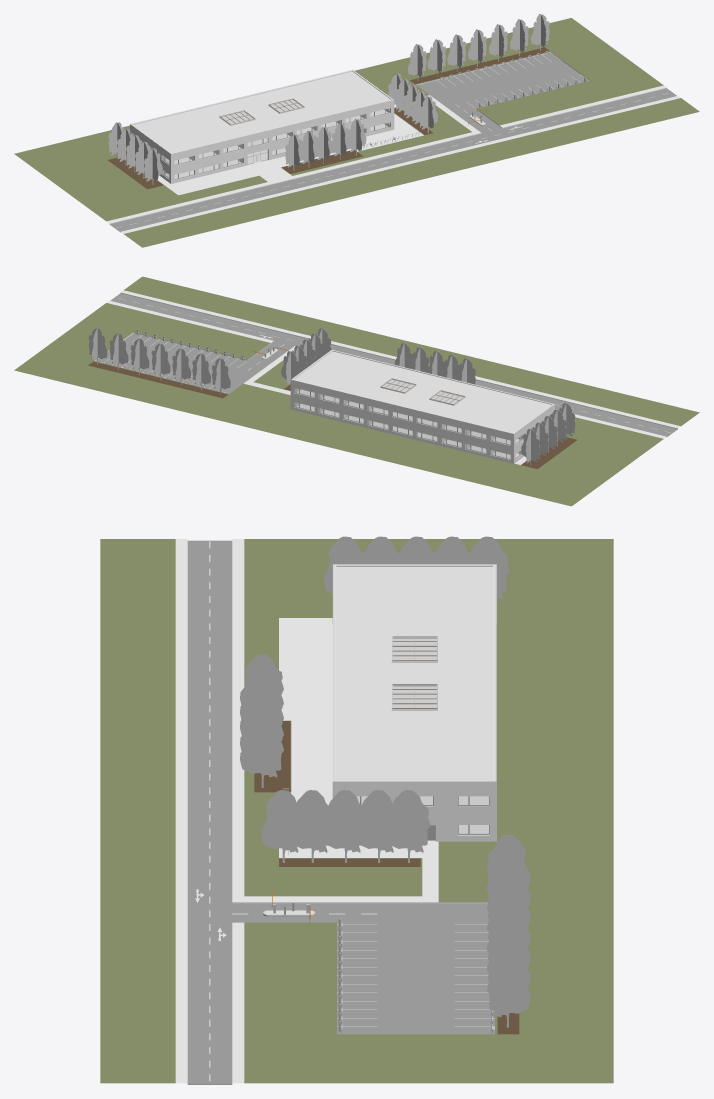
3 views of the same model, one above another, from view 1: azimuth 30°, elevation 25°; view 2: azimuth 150°, elevation 25°; view 3: azimuth 270°, elevation 25° (orthographic). The views are drawn at different scales.
Visible parts, largest first — view 1: 3A8hY1UoD7JhnLeZeDyU4B, 3A8hY1UoD7JhnLeZeDyU2J, 0CWDnGbzX4Sf1BesL9Tj4o, 3A8hY1UoD7JhnLeZeDyUs3, 12bPoIwbv0tBGfPfnvCUc2, 3A8hY1UoD7JhnLeZeDyQc9, 3A8hY1UoD7JhnLeZeDyU2I, 0P898JVsX6VQGfAj0lC8$w, 3LJODRGPbDdfXHXShFLAxF, 3LJODRGPbDdfXHXShFLAnr, 12bPoIwbv0tBGfPfnvCUau, 0P898JVsX6VQGfAj0lC8w9 (+14 smaller); view 2: 3A8hY1UoD7JhnLeZeDyU4B, 0CWDnGbzX4Sf1BesL9Tj4o, 3A8hY1UoD7JhnLeZeDyU2J, 12bPoIwbv0tBGfPfnvCUYu, 3A8hY1UoD7JhnLeZeDyUs3, 3A8hY1UoD7JhnLeZeDyU2I, 0P898JVsX6VQGfAj0lC8$w, 3LJODRGPbDdfXHXShFLAnr, 3LJODRGPbDdfXHXShFLAxF, 3A8hY1UoD7JhnLeZeDyQc9, 12bPoIwbv0tBGfPfnvCUau, 3A8hY1UoD7JhnLeZeDyQto (+9 smaller); view 3: 3A8hY1UoD7JhnLeZeDyU4B, 3A8hY1UoD7JhnLeZeDyU2J, 0CWDnGbzX4Sf1BesL9Tj4o, 3A8hY1UoD7JhnLeZeDyUs3, 12bPoIwbv0tBGfPfnvCUW2, 3A8hY1UoD7JhnLeZeDyQc9, 0P898JVsX6VQGfAj0lC8w9, 3A8hY1UoD7JhnLeZeDyQqa, 3A8hY1UoD7JhnLeZeDyQpf, 3A8hY1UoD7JhnLeZeDyQqC, 3A8hY1UoD7JhnLeZeDyQqq, 3A8hY1UoD7JhnLeZeDyQq4 (+10 smaller).
Boxes of the visible parts, x1,y1,x2,y2 form: 3A8hY1UoD7JhnLeZeDyU4B: (14, 18, 699, 247); 3A8hY1UoD7JhnLeZeDyU2J: (109, 52, 676, 232); 0CWDnGbzX4Sf1BesL9Tj4o: (133, 71, 390, 152); 3A8hY1UoD7JhnLeZeDyUs3: (106, 85, 680, 233); 12bPoIwbv0tBGfPfnvCUc2: (171, 99, 394, 183); 3A8hY1UoD7JhnLeZeDyQc9: (107, 108, 433, 189); 3A8hY1UoD7JhnLeZeDyU2I: (109, 52, 666, 224); 0P898JVsX6VQGfAj0lC8$w: (410, 47, 549, 84); 3LJODRGPbDdfXHXShFLAxF: (139, 109, 387, 164); 3LJODRGPbDdfXHXShFLAnr: (164, 124, 387, 178); 12bPoIwbv0tBGfPfnvCUau: (130, 124, 170, 183); 0P898JVsX6VQGfAj0lC8w9: (531, 14, 549, 54); 3A8hY1UoD7JhnLeZeDyU4B: (14, 276, 699, 506); 0CWDnGbzX4Sf1BesL9Tj4o: (294, 351, 551, 432); 3A8hY1UoD7JhnLeZeDyU2J: (95, 293, 677, 436); 12bPoIwbv0tBGfPfnvCUYu: (290, 379, 513, 463); 3A8hY1UoD7JhnLeZeDyUs3: (106, 290, 680, 464); 3A8hY1UoD7JhnLeZeDyU2I: (94, 292, 677, 437); 0P898JVsX6VQGfAj0lC8$w: (88, 361, 228, 398); 3LJODRGPbDdfXHXShFLAnr: (297, 404, 520, 458); 3LJODRGPbDdfXHXShFLAxF: (297, 389, 520, 444); 3A8hY1UoD7JhnLeZeDyQc9: (284, 384, 576, 468); 12bPoIwbv0tBGfPfnvCUau: (513, 404, 554, 463); 3A8hY1UoD7JhnLeZeDyQto: (521, 429, 539, 465); 3A8hY1UoD7JhnLeZeDyU4B: (100, 539, 613, 1083); 3A8hY1UoD7JhnLeZeDyU2J: (187, 540, 494, 1084); 0CWDnGbzX4Sf1BesL9Tj4o: (336, 567, 493, 780); 3A8hY1UoD7JhnLeZeDyUs3: (175, 539, 438, 1083); 12bPoIwbv0tBGfPfnvCUW2: (332, 781, 496, 841); 3A8hY1UoD7JhnLeZeDyQc9: (254, 721, 420, 866); 0P898JVsX6VQGfAj0lC8w9: (486, 954, 530, 1029); 3A8hY1UoD7JhnLeZeDyQqa: (261, 790, 304, 862); 3A8hY1UoD7JhnLeZeDyQpf: (240, 715, 283, 787); 3A8hY1UoD7JhnLeZeDyQqC: (357, 790, 400, 862); 3A8hY1UoD7JhnLeZeDyQqq: (323, 790, 366, 862); 3A8hY1UoD7JhnLeZeDyQq4: (387, 790, 430, 862).
Size of what is drawn, in the model's own units: 159 by 13.82 by 63.53.
